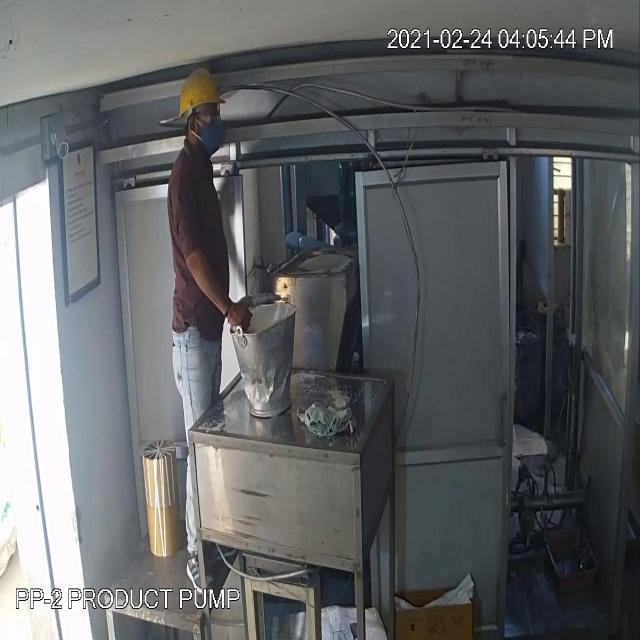helmet: (172, 55, 233, 134)
